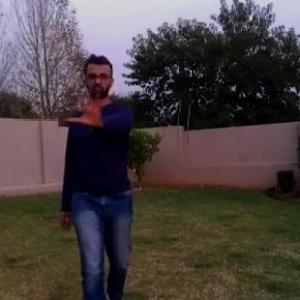follow_hand: (66, 88, 110, 129)
